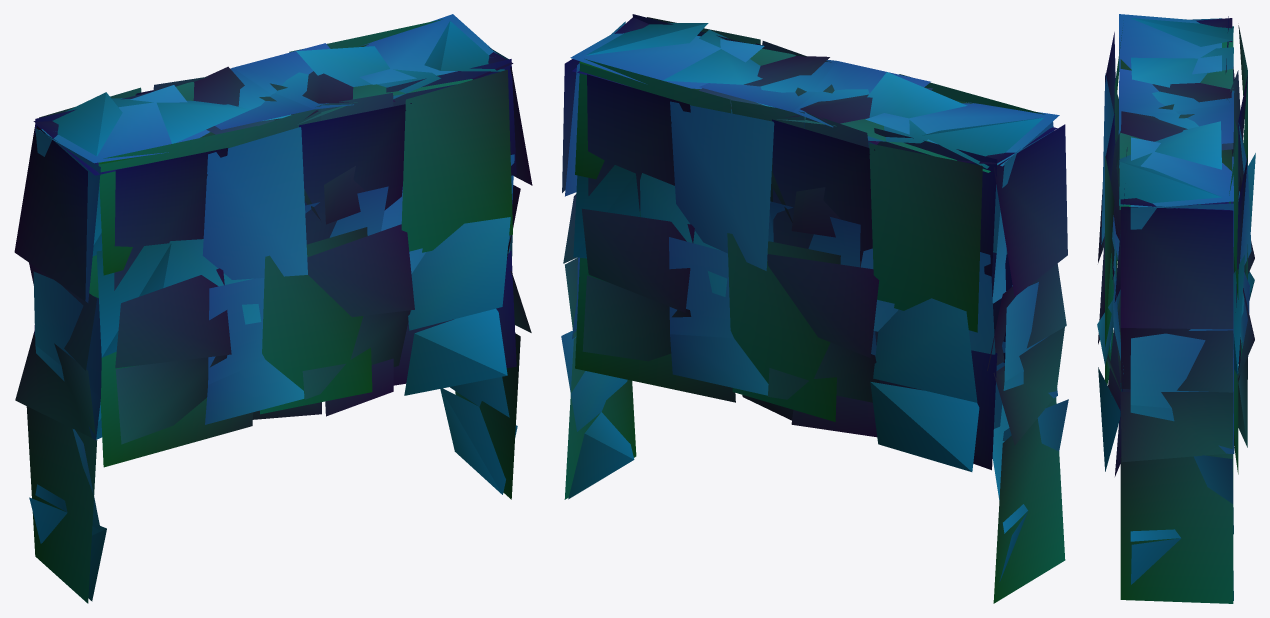
The model's file is trees.dae.
The picture shows the model from 3 angles, left to right: view 1: azimuth 30°, elevation 25°; view 2: azimuth 150°, elevation 25°; view 3: azimuth 270°, elevation 25°; orthographic projection. The views are drawn at different scales.
Parts seen in each view (by area): view 1: cypress_hedge_3m_a200; view 2: cypress_hedge_3m_a200; view 3: cypress_hedge_3m_a200.
Part boxes in pixels (<box>): cypress_hedge_3m_a200: <box>14,14,532,603</box>; cypress_hedge_3m_a200: <box>561,14,1068,603</box>; cypress_hedge_3m_a200: <box>1097,14,1255,603</box>.
Size of the model in its own units: 2.21 by 0.7316 by 2.07.
